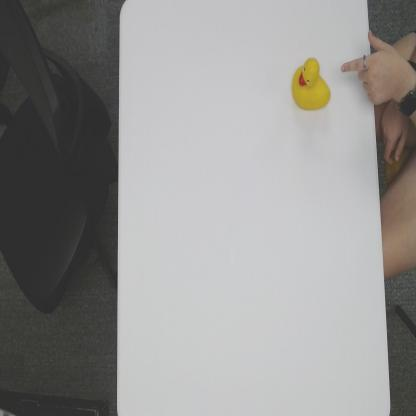Duck: (291, 53, 332, 115)
Hand: (340, 27, 401, 105)
